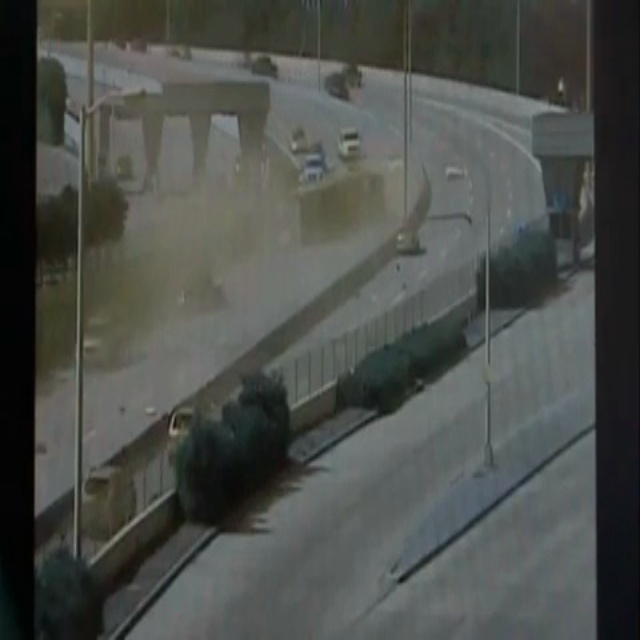acc: (282, 163, 391, 236)
